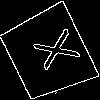X: (23, 27, 81, 77)
